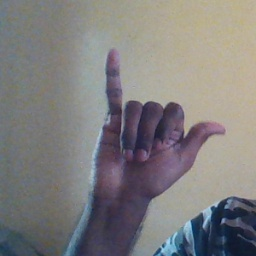J: (88, 47, 231, 196)
